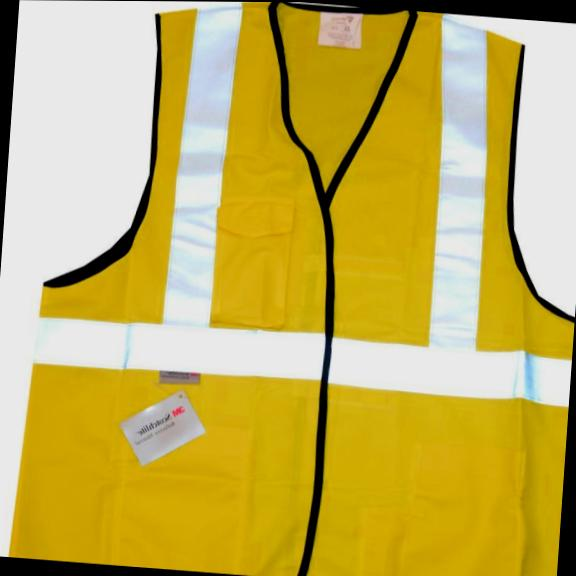safety_vest: (3, 0, 576, 576)
